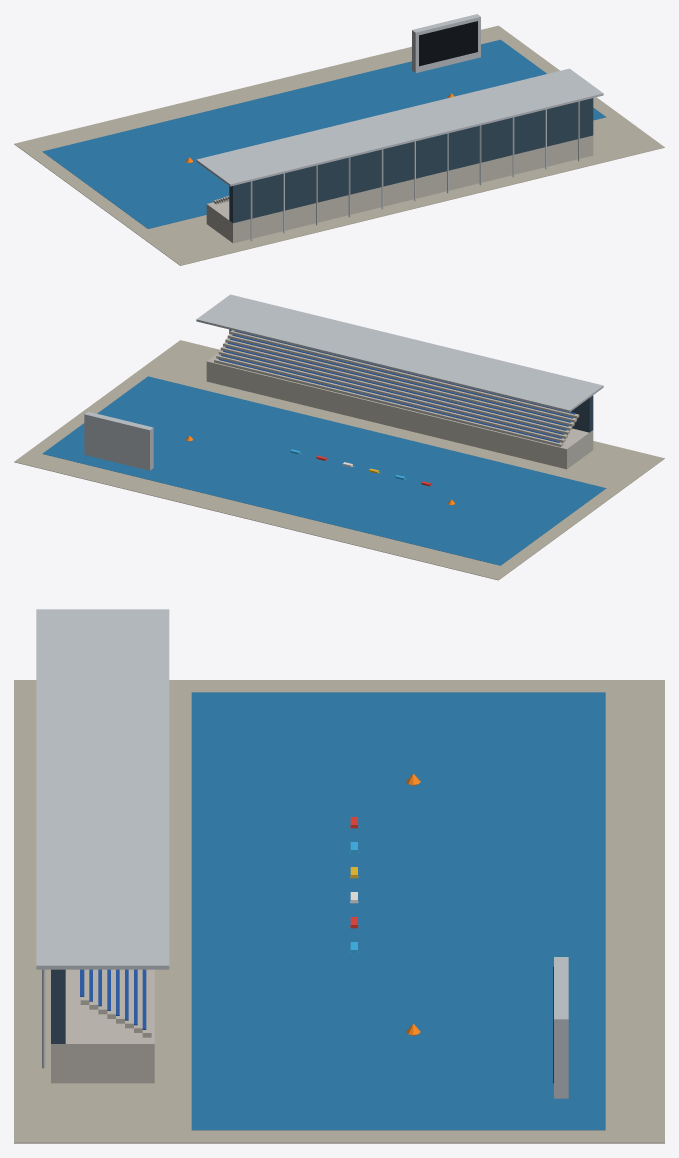
The model's file is boat_race.glb.
3 renders of one model, top to bottom at view 1: azimuth 30°, elevation 25°; view 2: azimuth 150°, elevation 25°; view 3: azimuth 270°, elevation 25°, orthographic. The views are drawn at different scales.
Visible parts, largest first — view 1: BoatRace_static; view 2: BoatRace_static; view 3: BoatRace_static.
Boxes of the visible parts, <box> form: BoatRace_static: <box>14,14,664,265</box>; BoatRace_static: <box>14,294,664,580</box>; BoatRace_static: <box>14,609,664,1143</box>.
Size of the model in its own units: 148 by 18.6 by 88.
